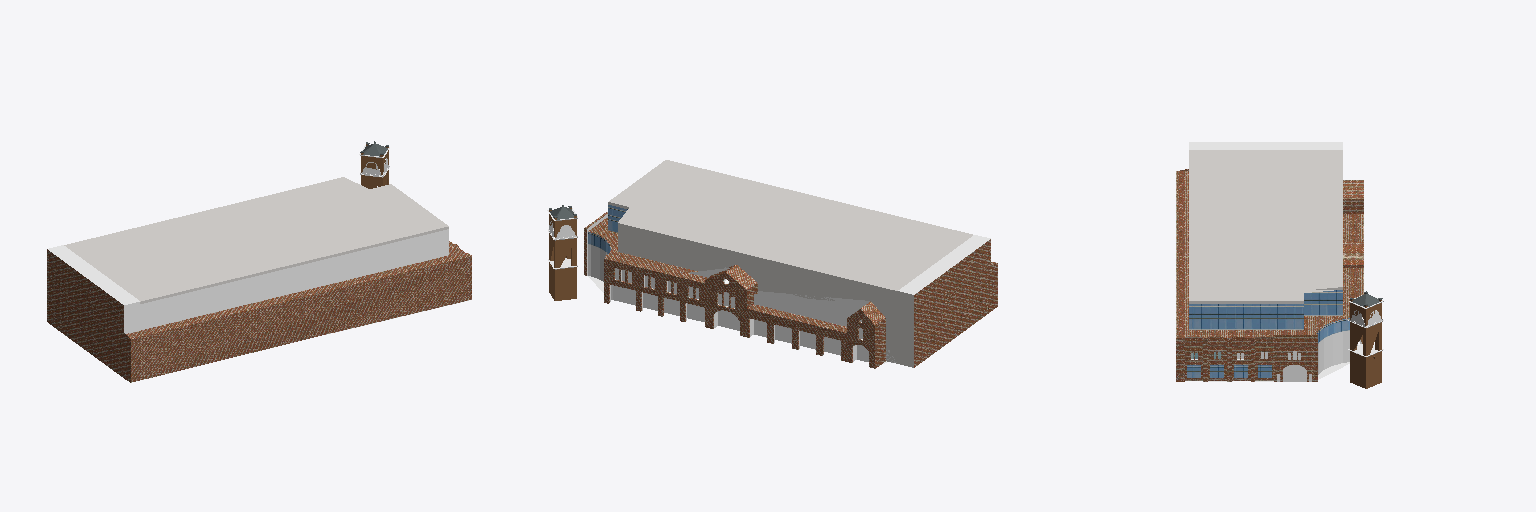
The picture shows the model from 3 angles: view 1: azimuth 30°, elevation 25°; view 2: azimuth 150°, elevation 25°; view 3: azimuth 270°, elevation 25°; orthographic projection.
Visible parts, largest first — view 1: Mesh13 Model, Mesh10 Clock_Tower1 Model; view 2: Mesh13 Model, Mesh10 Clock_Tower1 Model; view 3: Mesh13 Model, Mesh10 Clock_Tower1 Model.
Part boxes in pixels (left/top/right/bottom): Mesh13 Model: left=47, top=177, right=471, bottom=382; Mesh10 Clock_Tower1 Model: left=359, top=141, right=389, bottom=188; Mesh13 Model: left=584, top=160, right=997, bottom=368; Mesh10 Clock_Tower1 Model: left=547, top=205, right=577, bottom=300; Mesh13 Model: left=1176, top=142, right=1363, bottom=381; Mesh10 Clock_Tower1 Model: left=1348, top=291, right=1383, bottom=388.
Size of the model in its own units: 1945 by 496 by 989.
Materials: 8 (3 with a texture image).